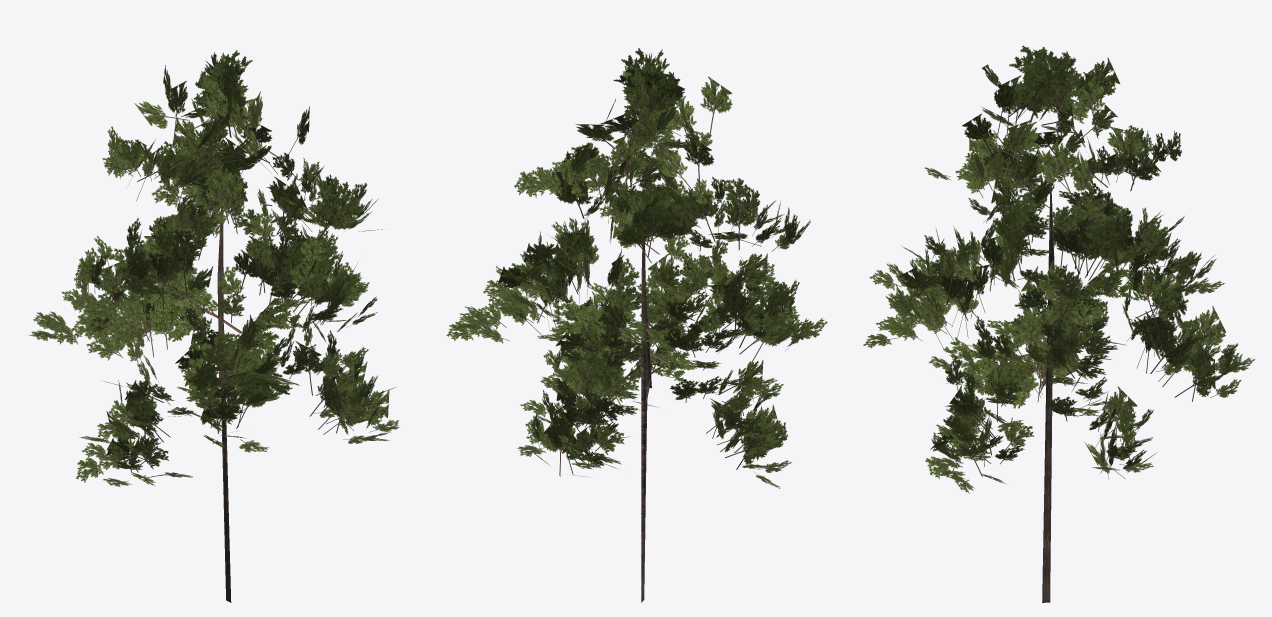
File: pine_0_lod1.glb
3 views of the same model, side by side, from view 1: azimuth 30°, elevation 25°; view 2: azimuth 150°, elevation 25°; view 3: azimuth 270°, elevation 25° (orthographic).
Parts seen in each view (by area): view 1: pine_0_LOD1; view 2: pine_0_LOD1; view 3: pine_0_LOD1.
Part boxes in pixels (x1=…): pine_0_LOD1: x1=29, y1=50, x2=399, y2=602; pine_0_LOD1: x1=446, y1=48, x2=827, y2=602; pine_0_LOD1: x1=863, y1=45, x2=1255, y2=602.
Size of the model in its own units: 11.33 by 17.66 by 11.08.
Materials: 2 (2 with a texture image).
